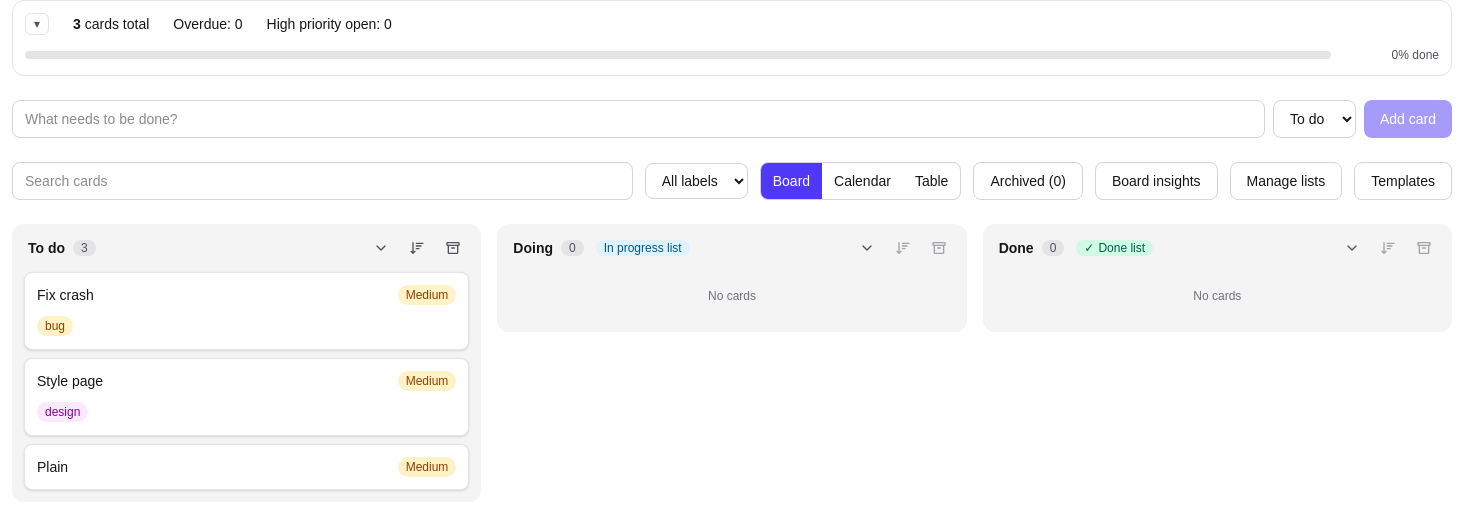
Scenario: <Board /> labels › filters by clicking a chip, combines with search and clears
Click the button named "Filter by label \"bug\"".
click(55, 326)  # box top-left (37, 316), bottom-right (73, 336)
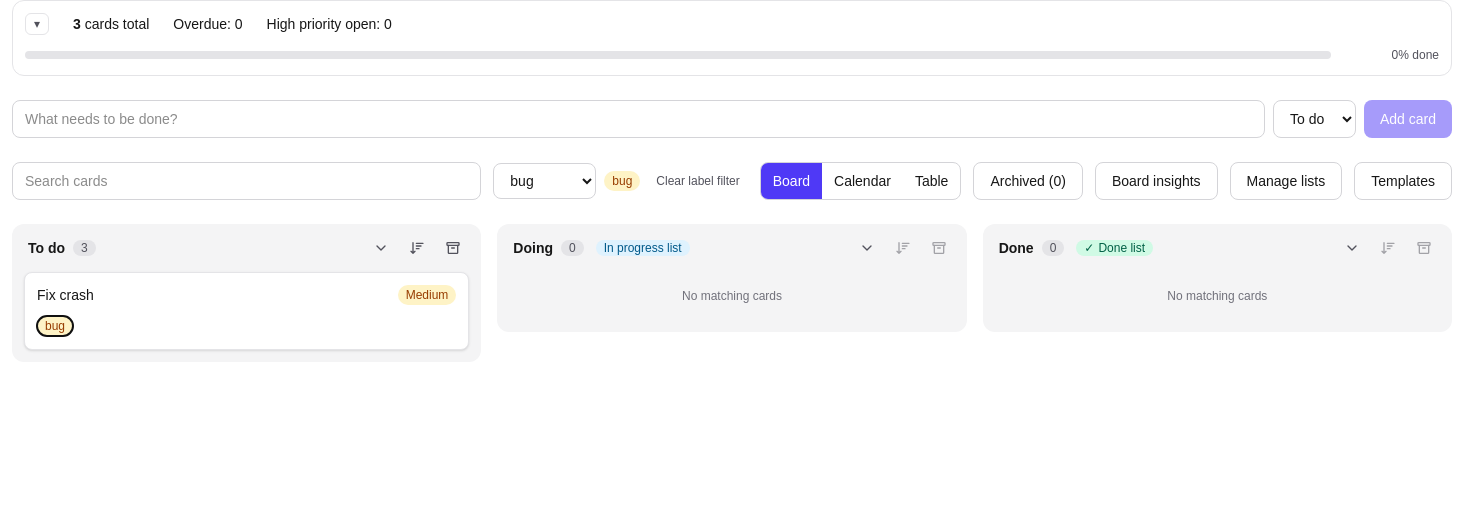
Expected: the button "Style page" is gone
Expected: the button "Plain" is gone
Expected: the dropdown named "Filter by label" shows "bug", top-left (493, 163), bottom-right (596, 199)
Type "style" into the field labelled "Search cards".
click(247, 181); type("style")  # box top-left (12, 162), bottom-right (481, 200)
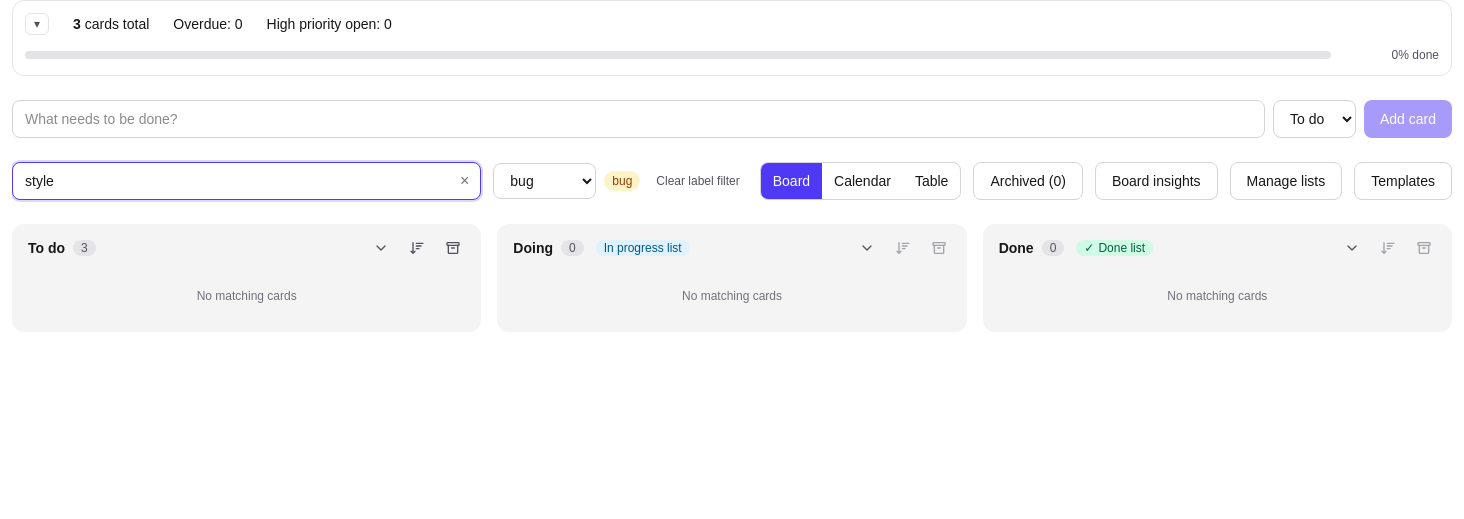
Expected: the text "No matching cards" below "To do" is shown, top-left (197, 289), bottom-right (297, 303)
Click the button named "Clear search".
click(465, 181)  # box top-left (448, 162), bottom-right (481, 200)
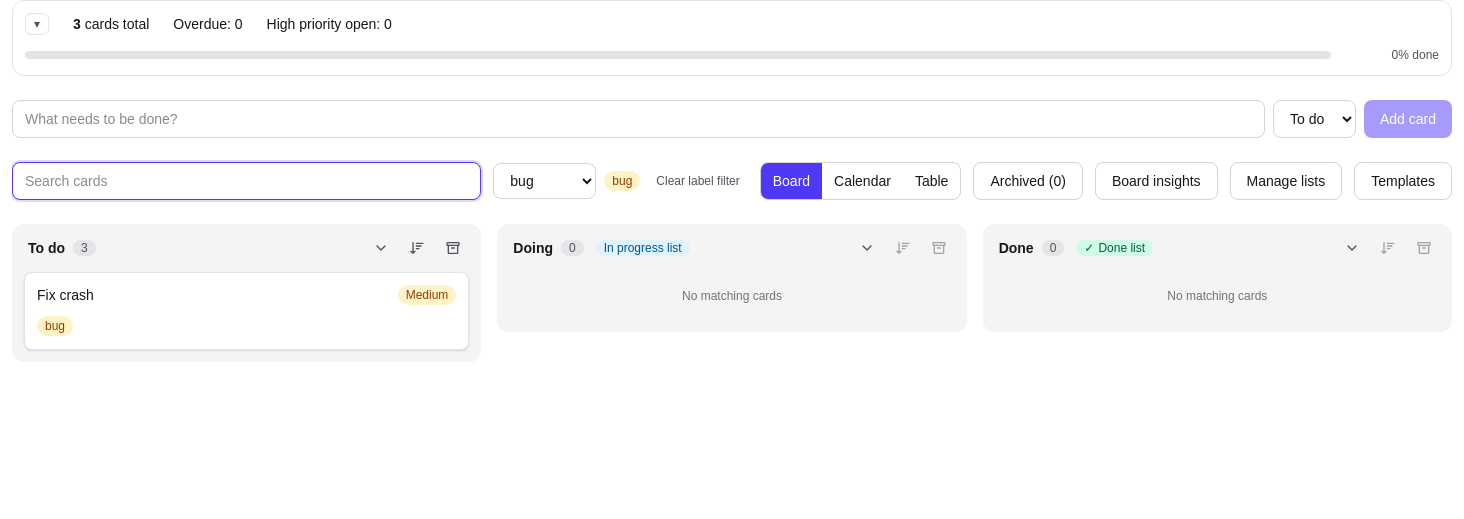
Click the button "Clear label filter".
click(698, 181)  # box top-left (648, 169), bottom-right (748, 193)
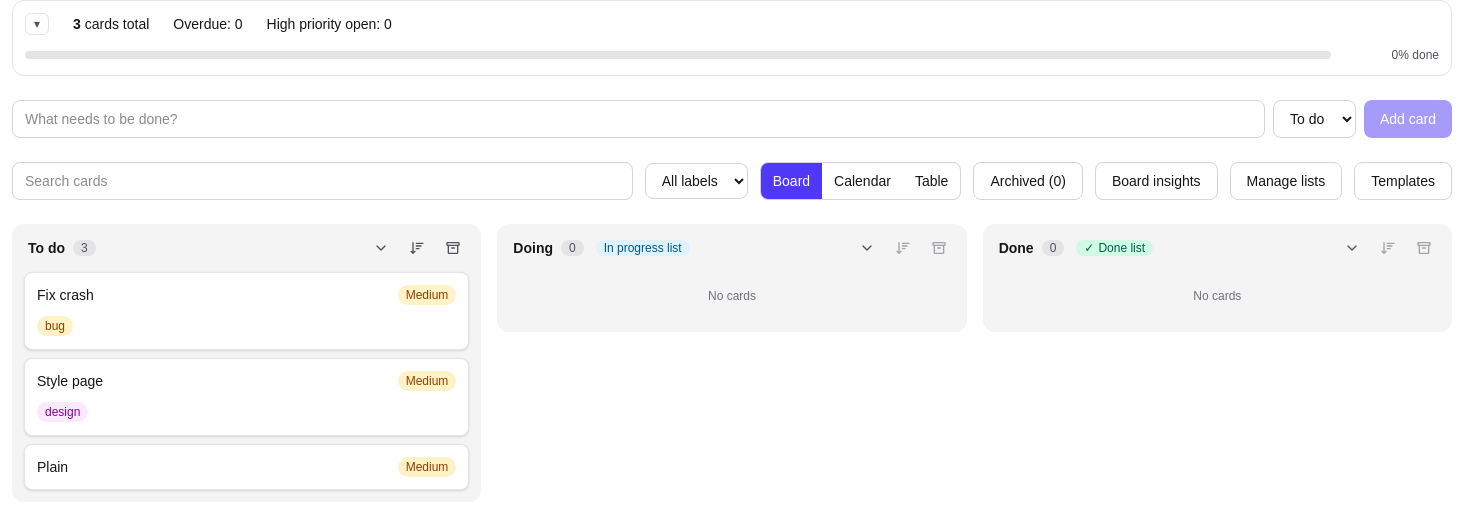
Expected: the dropdown named "Filter by label" shows "All labels", top-left (645, 163), bottom-right (748, 199)
